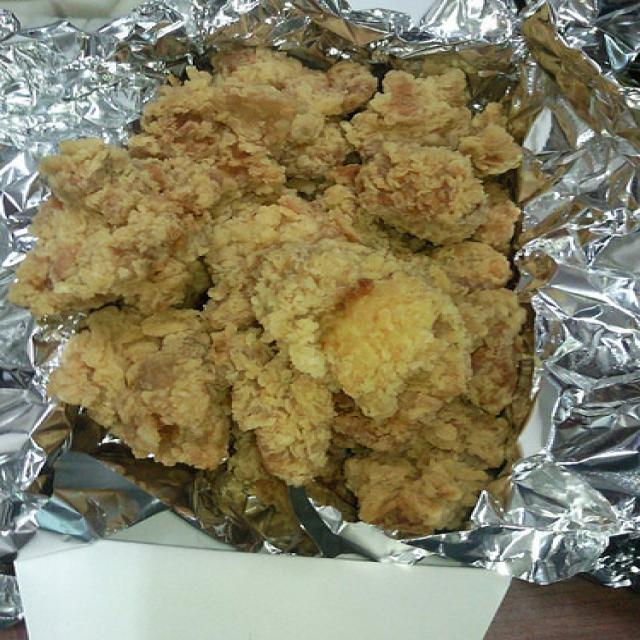Frango: (18, 37, 531, 511)
